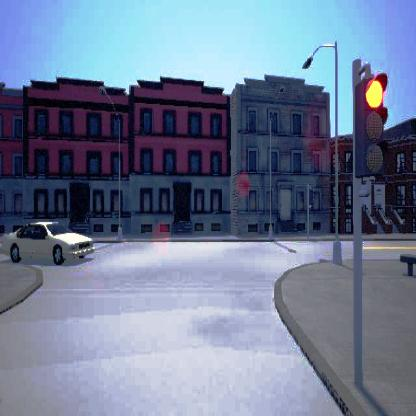vehicle: (0, 221, 94, 264)
